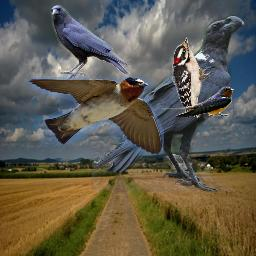Crow: (92, 13, 248, 192), (49, 5, 131, 83)
Swallow: (27, 77, 164, 155), (160, 86, 234, 117)
Woodpecker: (172, 37, 210, 118)
